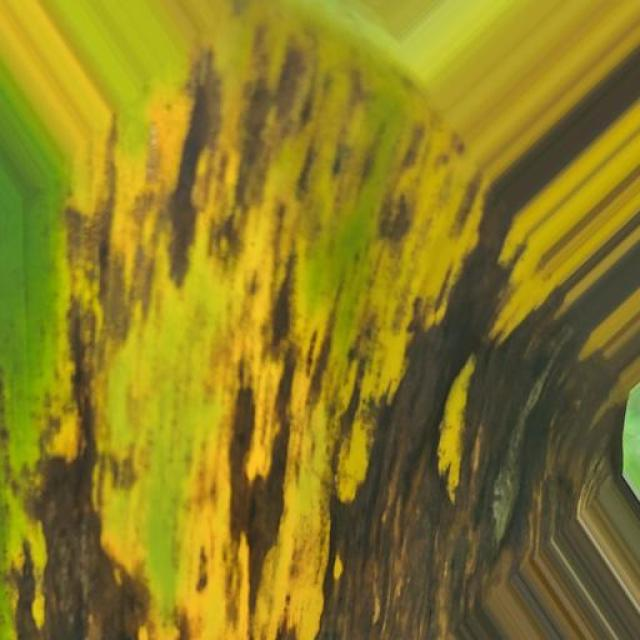Early_rust: (0, 44, 579, 640)
